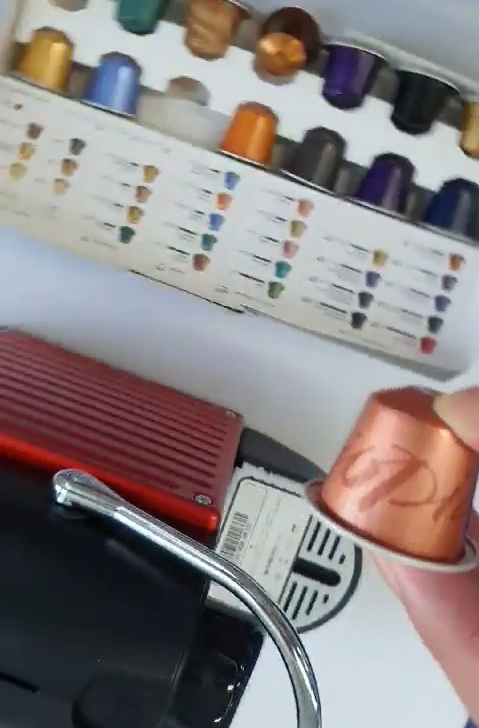capsule_6: (302, 381, 479, 580)
